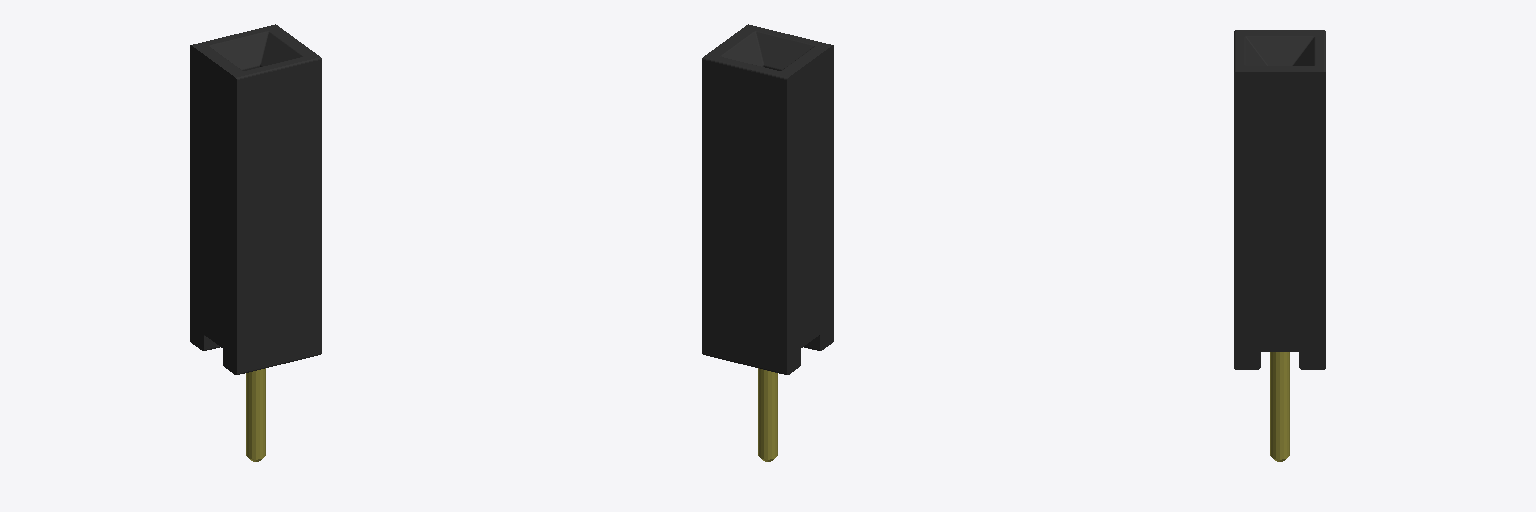
File: Buchsenleiste_female.obj
The picture shows the model from 3 angles: view 1: azimuth 30°, elevation 25°; view 2: azimuth 150°, elevation 25°; view 3: azimuth 270°, elevation 25°; orthographic projection.
Parts seen in each view (by area): view 1: Volumenkörper1; view 2: Volumenkörper1; view 3: Volumenkörper1.
Part boxes in pixels (x1,y1,x2,y2): Volumenkörper1: (190, 24, 321, 461); Volumenkörper1: (702, 24, 833, 461); Volumenkörper1: (1234, 30, 1325, 461).
Bounding box in the file's own units: 2.54 × 11.7 × 2.4.